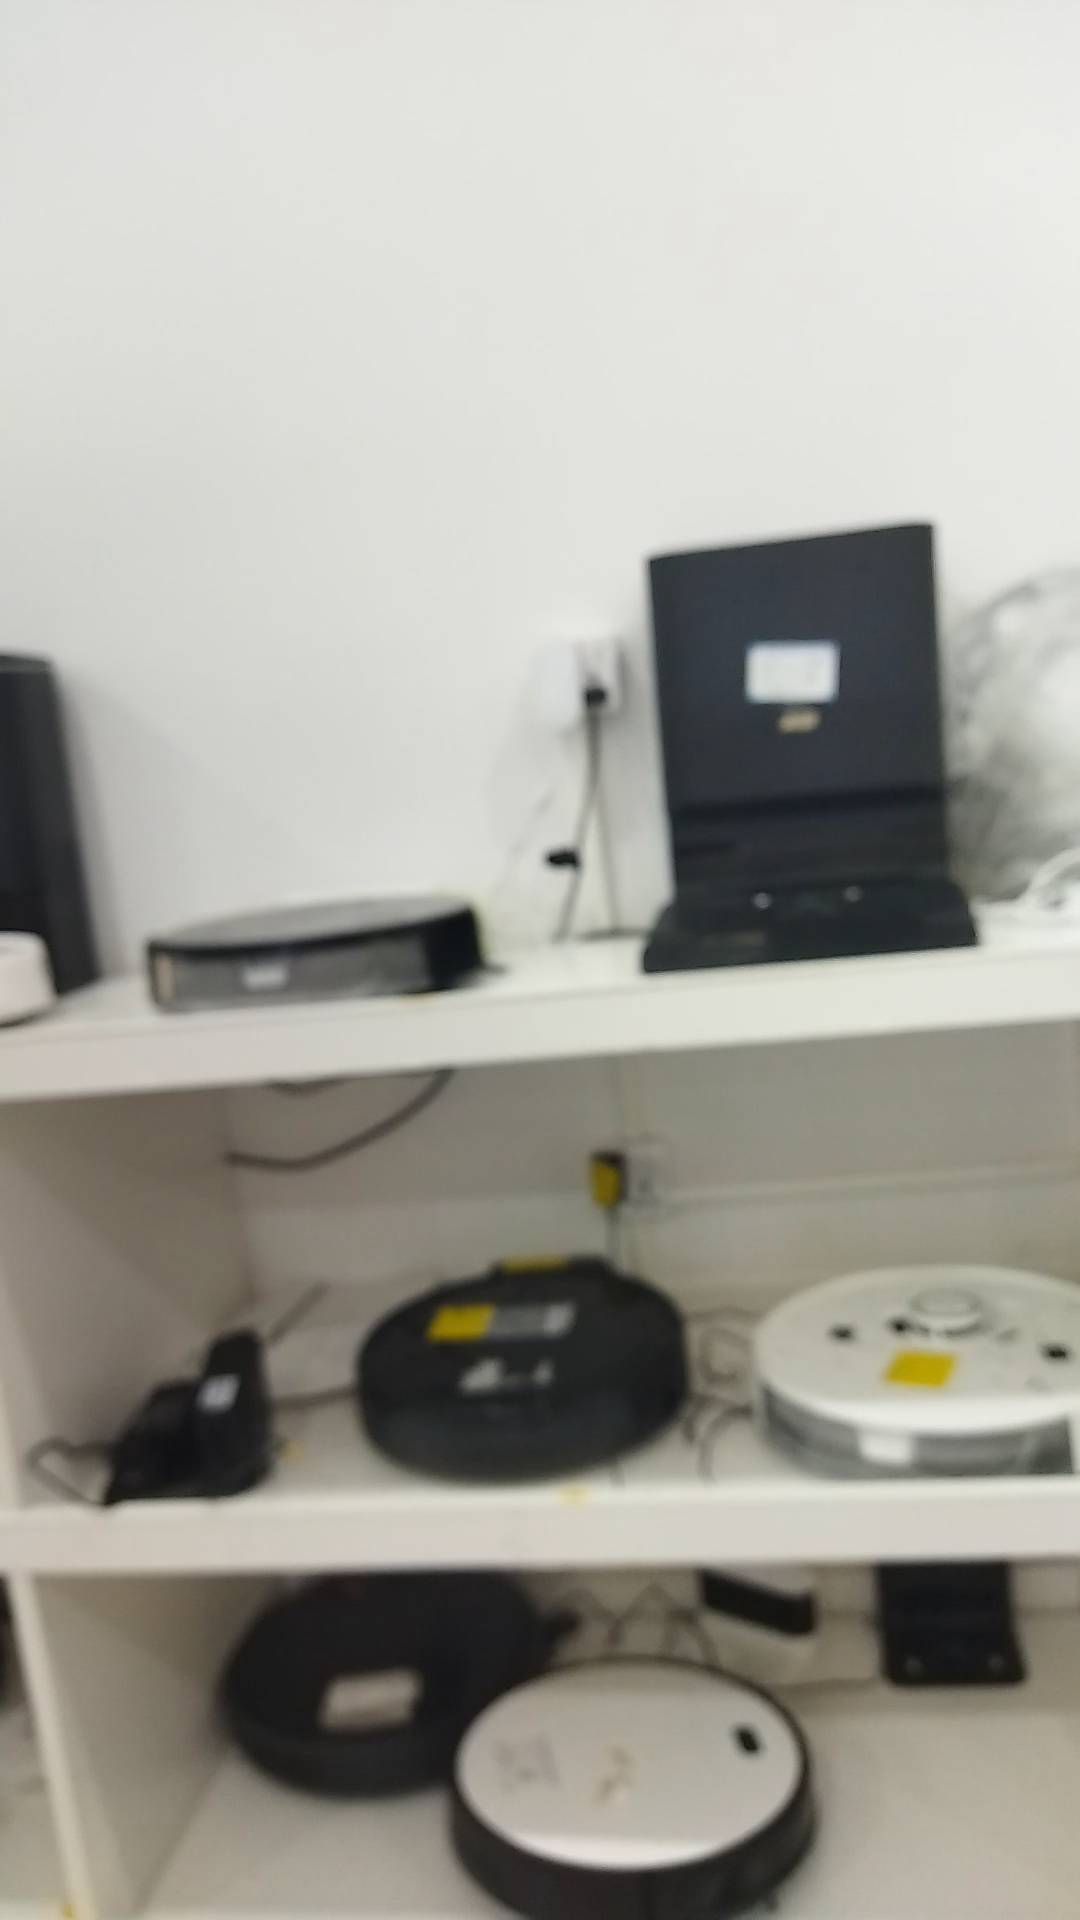dust collecting barrel: (641, 522, 977, 977)
recharge seat: (109, 1329, 277, 1499), (866, 1561, 1040, 1691), (673, 1565, 816, 1716)
